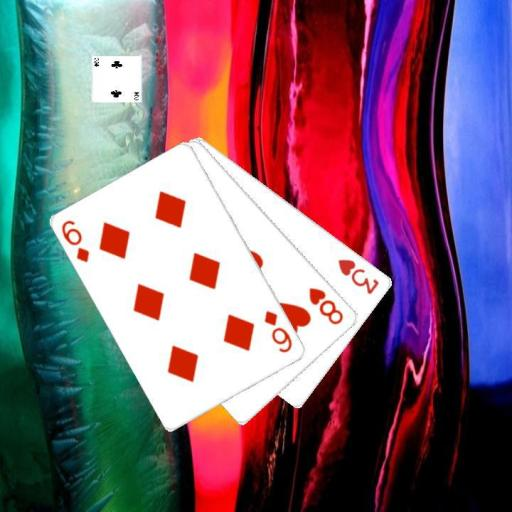3H: (335, 255, 381, 296)
6D: (58, 217, 92, 264), (261, 307, 294, 355)
8H: (306, 284, 346, 326)
